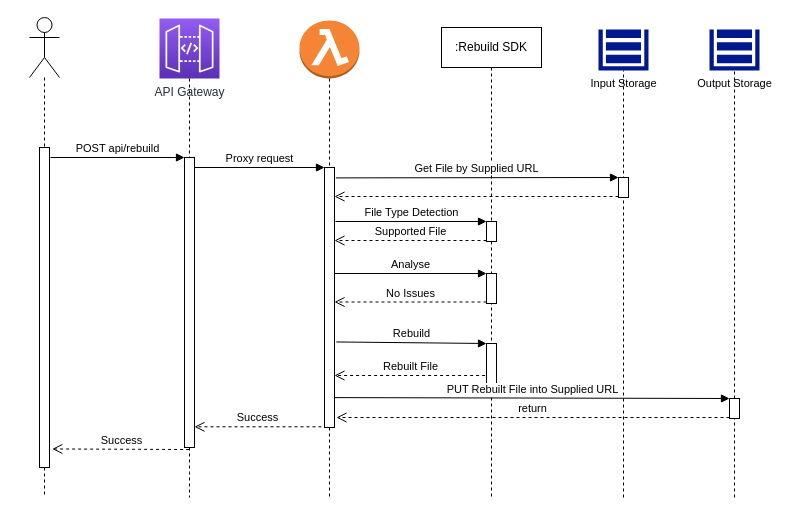
The diagram is 789 pixels wide and 516 high, and some of its shapes have lost their labels. The shapes that lost their labels are listed below. From the top down, each one's centre as x and y in pixels, then its label:
point (44, 47): Requestor
point (329, 49): Rebuild Lambda
